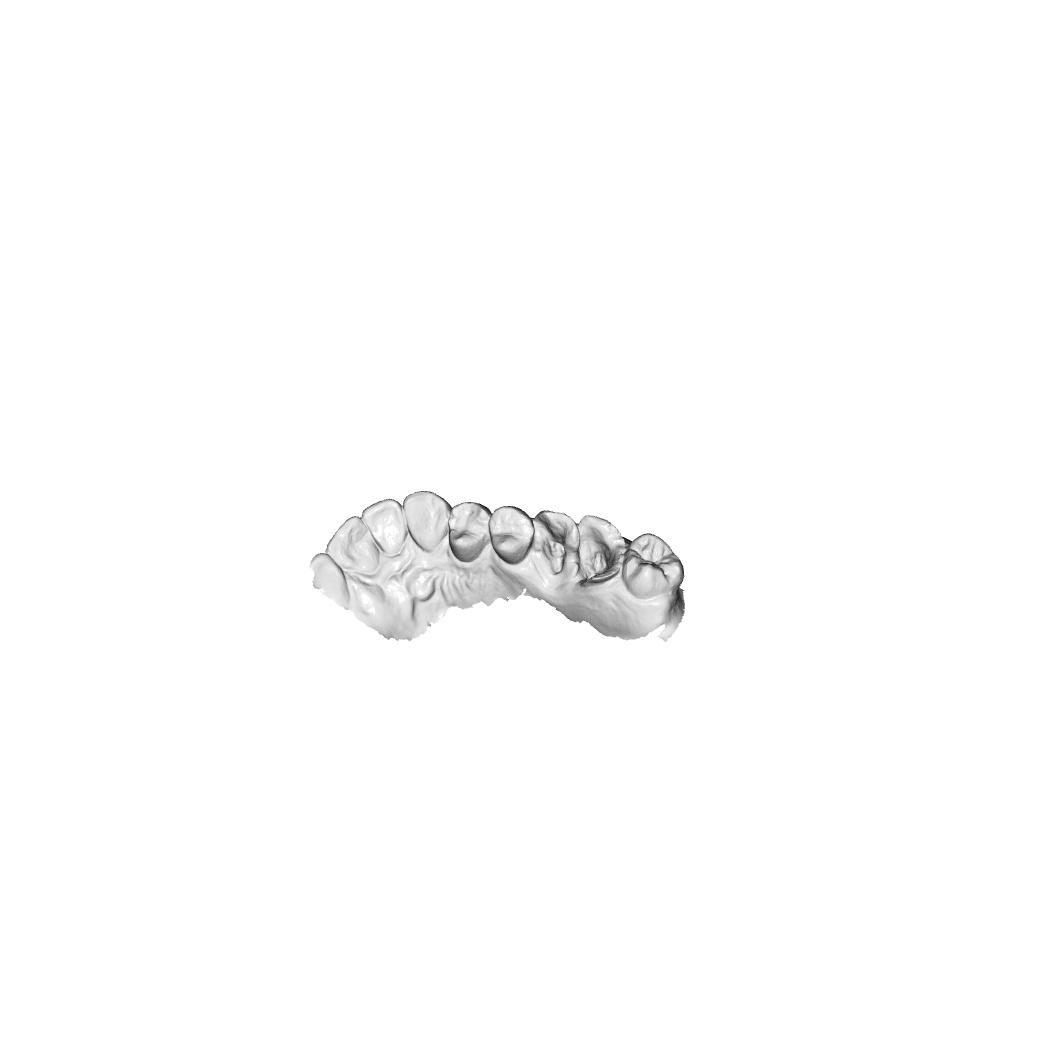canine: (403, 489, 452, 555)
incisor: (324, 514, 382, 576), (360, 497, 407, 560), (308, 553, 351, 610)
molar: (621, 530, 686, 601)
premolar: (487, 505, 535, 567), (447, 500, 492, 564)
